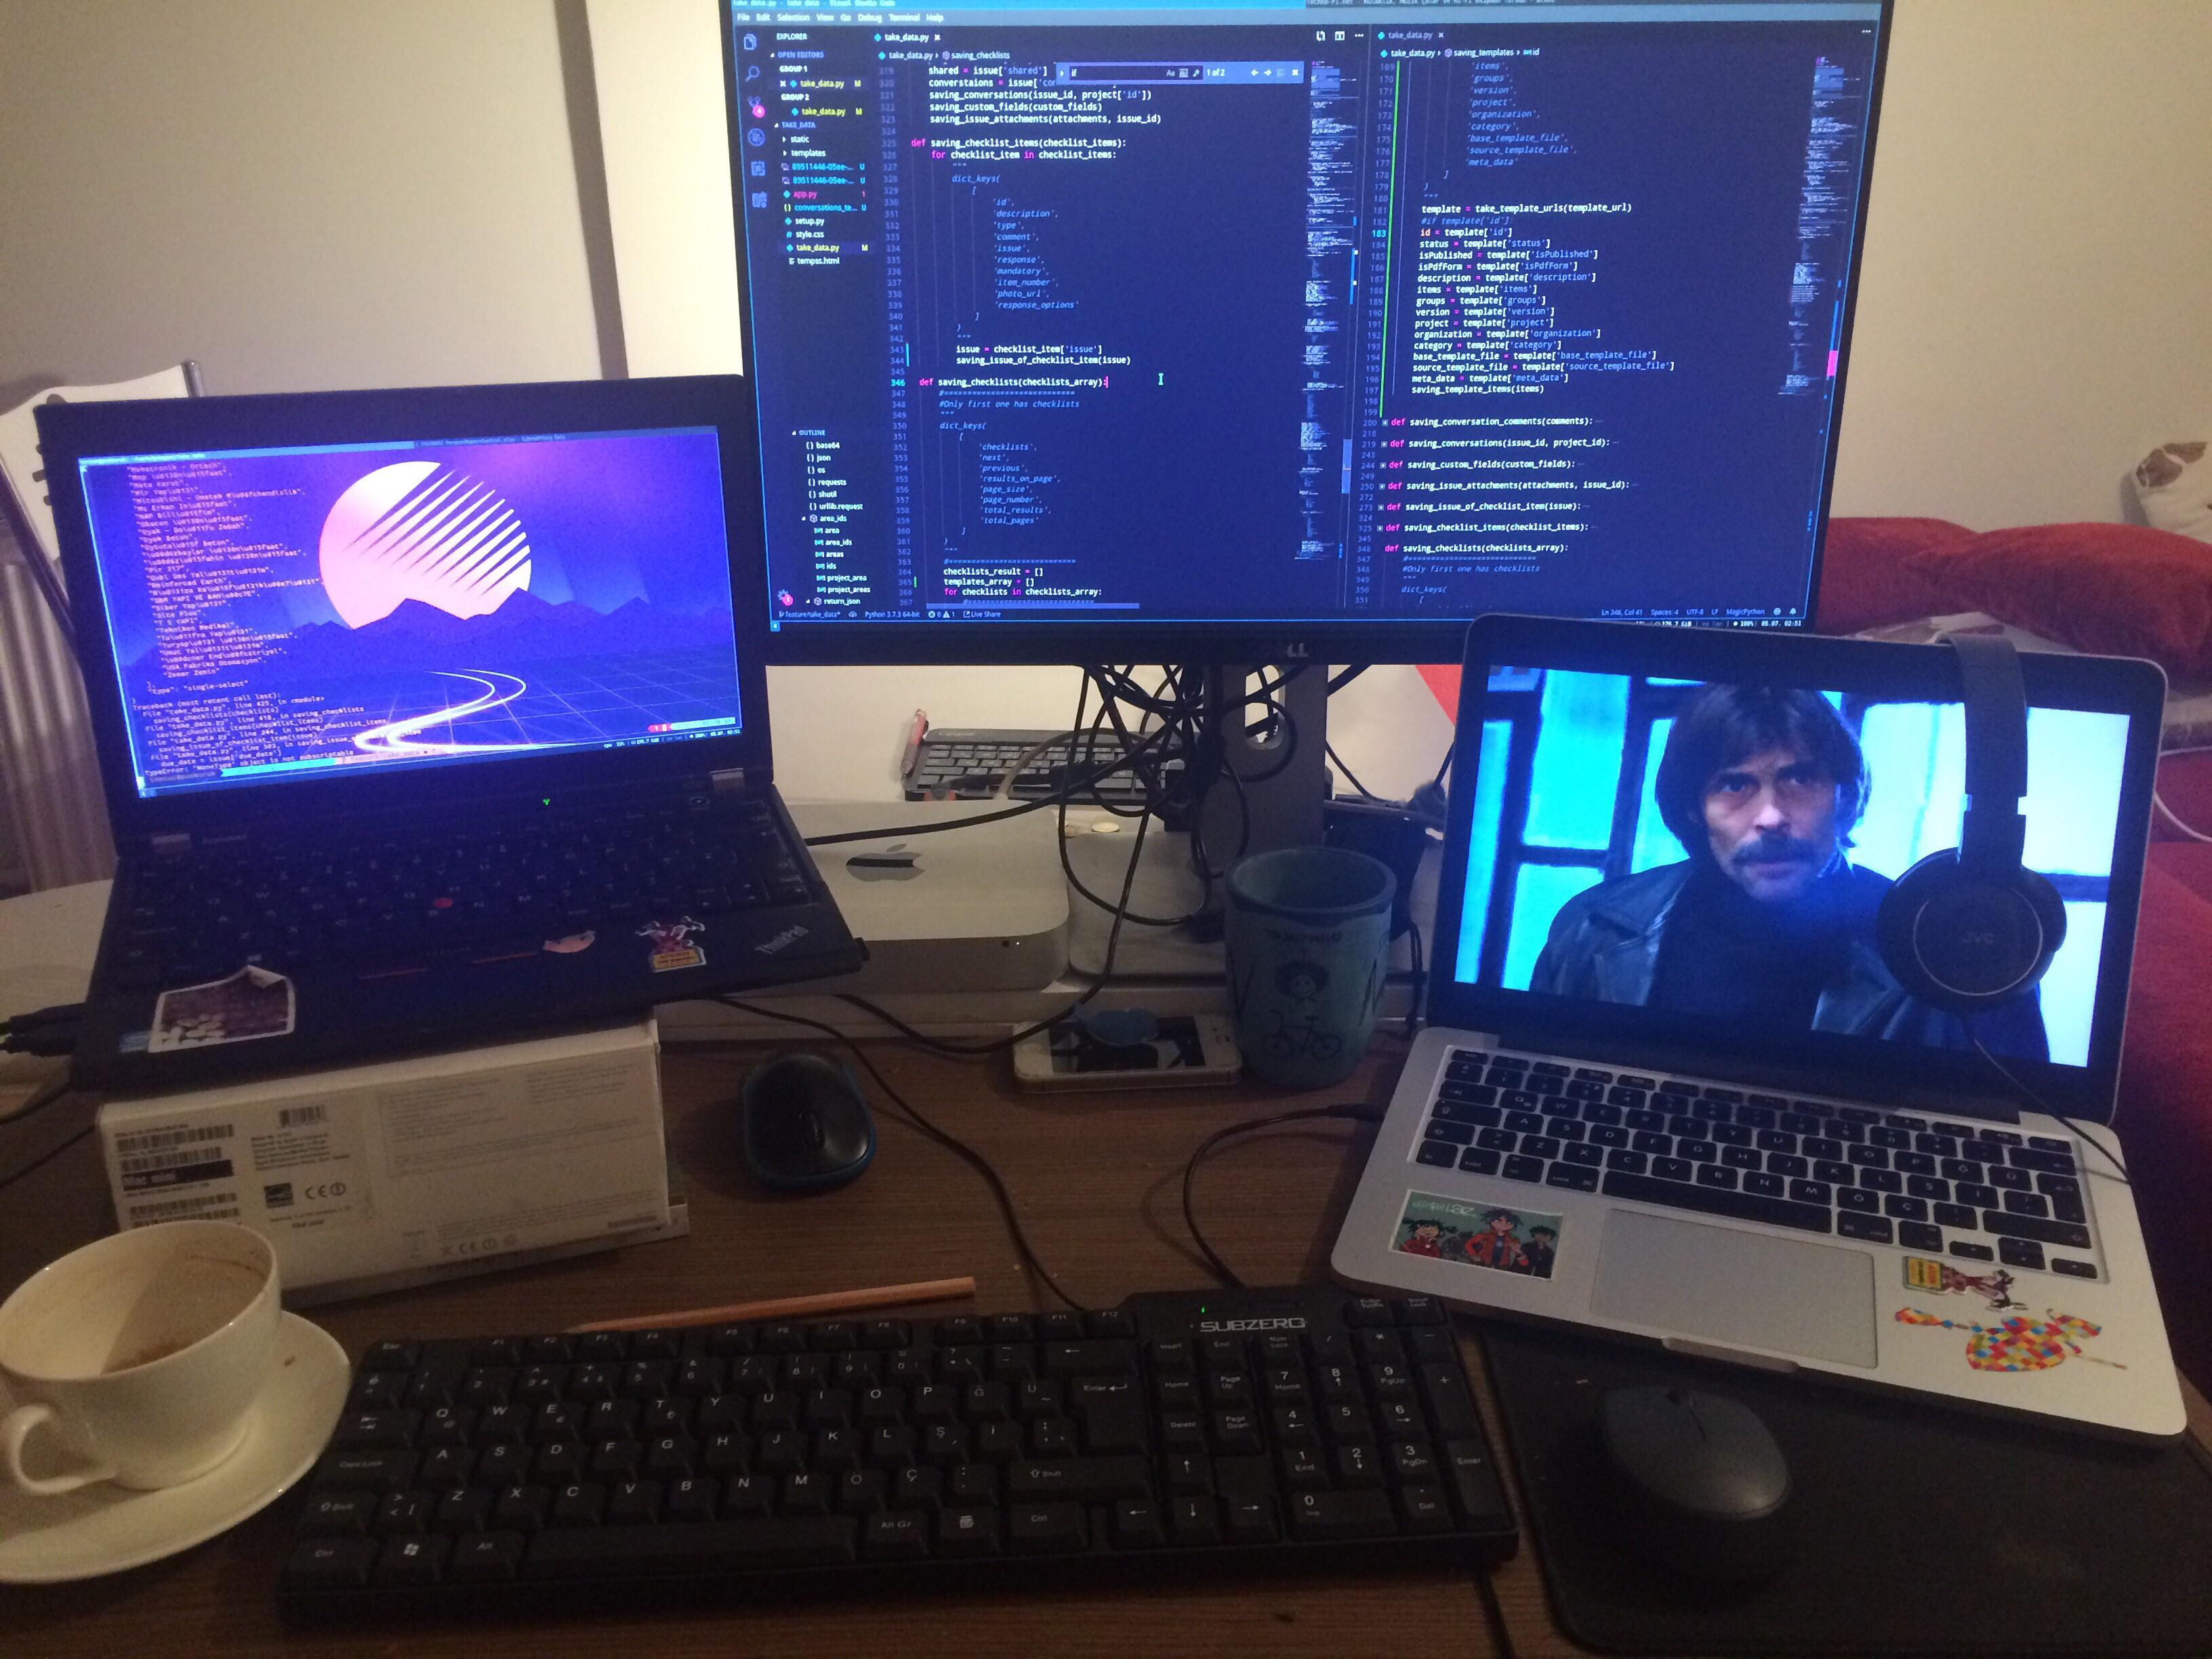Cellphone: (1001, 1002, 1240, 1093)
Decoration (Generic): (3, 1206, 279, 1480)
Desktop (OSX): (784, 784, 1071, 990)
Drink Coaster: (3, 1227, 350, 1601)
Headphones: (1888, 629, 2062, 1016)
Keyboard (Generic): (336, 1326, 1526, 1575), (911, 723, 1205, 802)
Laptop (Linux): (33, 397, 859, 979)
Laptop (OSX): (1355, 629, 2189, 1274)
Monitor (Landscape): (721, 3, 1817, 634)
Monitor (Laptop): (1453, 615, 2130, 1105)
Mouse (Generic): (1592, 1361, 1817, 1589), (725, 1033, 895, 1204)
Mousepad (Gaming): (1494, 1239, 2205, 1647)
Mug: (1228, 835, 1390, 1096)
